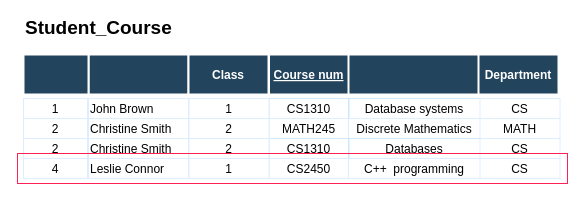
Image size: 585x201. Some labels were removed from this diagram. Here are the shapes that lost their labels. From the top down, the centre of each, then its label:
At pixel 55 74: "Student_id".
At pixel 138 74: "Student name".
At pixel 414 74: "Course name".
